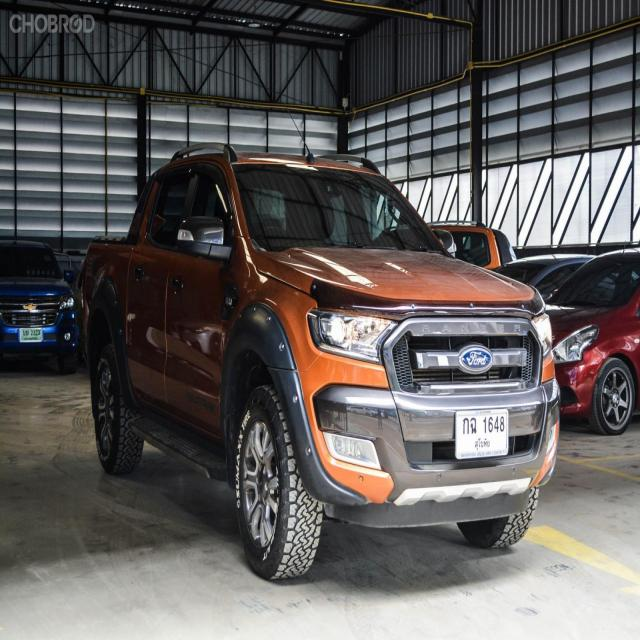car: (81, 141, 561, 581)
license_plate: (455, 409, 509, 460)
plate_number: (462, 415, 505, 435)
province: (474, 438, 491, 451)
